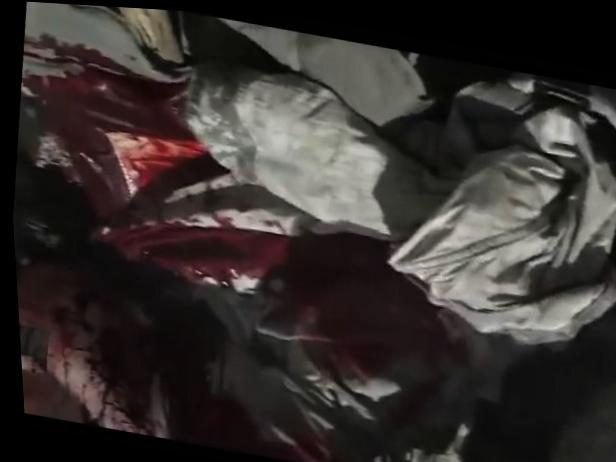Fire: (20, 34, 462, 449)
